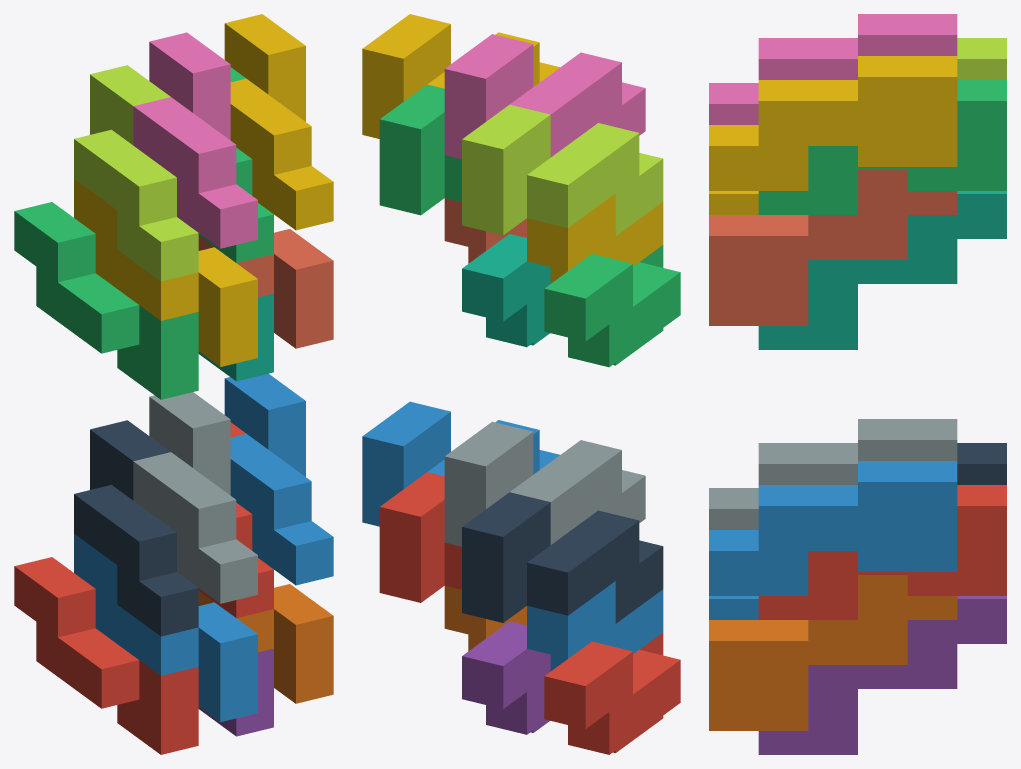
Rendered from tiling.obj.
The picture shows the model from 3 angles, left to right: view 1: azimuth 30°, elevation 25°; view 2: azimuth 150°, elevation 25°; view 3: azimuth 270°, elevation 25°; orthographic projection. The views are drawn at different scales.
Visible parts, largest first — view 1: copy_2_domain_4, copy_1_domain_3, copy_1_domain_1, copy_2_domain_2, copy_2_domain_8, copy_2_domain_6, copy_2_domain_3, copy_2_domain_1, copy_1_domain_4, copy_1_domain_2, copy_1_domain_8, copy_1_domain_6 (+4 smaller); view 2: copy_2_domain_3, copy_2_domain_1, copy_2_domain_2, copy_2_domain_4, copy_1_domain_1, copy_1_domain_3, copy_2_domain_5, copy_2_domain_7, copy_2_domain_6, copy_2_domain_8, copy_1_domain_5, copy_1_domain_7 (+4 smaller); view 3: copy_2_domain_6, copy_2_domain_8, copy_1_domain_6, copy_1_domain_8, copy_1_domain_5, copy_1_domain_7, copy_2_domain_5, copy_2_domain_7, copy_2_domain_2, copy_2_domain_4, copy_2_domain_1, copy_2_domain_3 (+2 smaller).
Part boxes in pixels (x1,y1,x2,y2): copy_2_domain_4: (133,32,257,248); copy_1_domain_3: (14,202,198,399); copy_1_domain_1: (14,557,198,754); copy_2_domain_2: (133,392,257,603); copy_2_domain_8: (224,14,333,230); copy_2_domain_6: (224,373,333,585); copy_2_domain_3: (74,65,198,281); copy_2_domain_1: (74,420,198,636); copy_1_domain_4: (74,178,257,366); copy_1_domain_2: (74,534,257,722); copy_1_domain_8: (198,229,333,348); copy_1_domain_6: (198,584,333,703); copy_2_domain_3: (462,104,663,235); copy_2_domain_1: (462,492,663,623); copy_2_domain_2: (444,421,645,546); copy_2_domain_4: (444,34,645,158); copy_1_domain_1: (544,632,680,754); copy_1_domain_3: (544,245,680,367); copy_2_domain_5: (379,472,461,602); copy_2_domain_7: (379,84,461,215); copy_2_domain_6: (362,401,559,526); copy_2_domain_8: (362,14,559,138); copy_1_domain_5: (462,621,550,734); copy_1_domain_7: (462,234,550,347); copy_2_domain_6: (709,461,957,595); copy_2_domain_8: (709,56,957,190); copy_1_domain_6: (709,575,957,730); copy_1_domain_8: (709,170,957,325); copy_1_domain_5: (758,596,1006,754); copy_1_domain_7: (758,191,1006,349); copy_2_domain_5: (758,485,1006,619); copy_2_domain_7: (758,80,1006,214); copy_2_domain_2: (709,419,957,529); copy_2_domain_4: (709,14,957,124); copy_2_domain_1: (957,443,1006,484); copy_2_domain_3: (957,38,1006,79).
Size of the model in its own units: 6 by 16 by 6.
